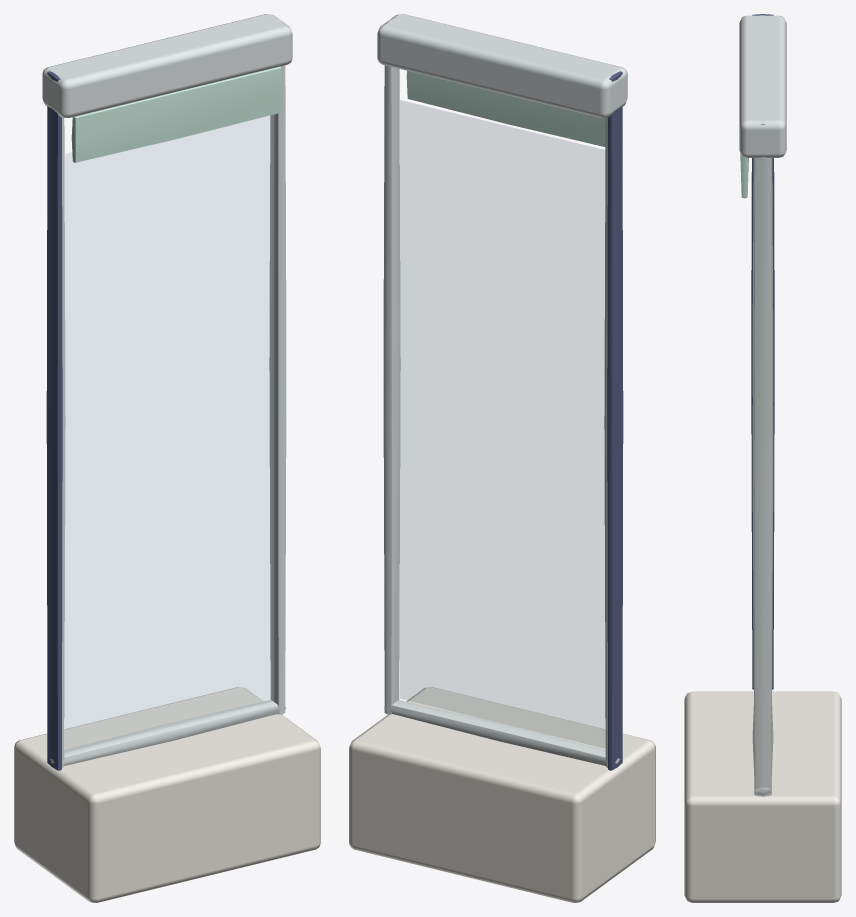
Rendered from window-wall.glb.
3 renders of one model, left to right at view 1: azimuth 30°, elevation 25°; view 2: azimuth 150°, elevation 25°; view 3: azimuth 270°, elevation 25°, orthographic. The views are drawn at different scales.
Visible parts, largest first — view 1: clear-pane, solid-sill, blind-box, mullion (×2), panel-gap, rolled-fabric, part; view 2: clear-pane, solid-sill, blind-box, mullion (×2), panel-gap, rolled-fabric, part; view 3: solid-sill, mullion (×2), blind-box, panel-gap.
Boxes of the visible parts, x1=… form: clear-pane: x1=65, y1=115, x2=273, y2=752; solid-sill: x1=14, y1=687, x2=320, y2=902; blind-box: x1=42, y1=14, x2=292, y2=117; mullion (×2): x1=55, y1=19, x2=286, y2=767; panel-gap: x1=46, y1=71, x2=62, y2=770; rolled-fabric: x1=71, y1=66, x2=281, y2=162; part: x1=50, y1=700, x2=285, y2=765; clear-pane: x1=400, y1=100, x2=605, y2=748; solid-sill: x1=349, y1=687, x2=655, y2=902; blind-box: x1=377, y1=14, x2=627, y2=117; mullion (×2): x1=383, y1=19, x2=614, y2=767; panel-gap: x1=607, y1=71, x2=623, y2=770; rolled-fabric: x1=406, y1=71, x2=605, y2=146; part: x1=384, y1=700, x2=619, y2=765; solid-sill: x1=684, y1=691, x2=841, y2=902; mullion (×2): x1=752, y1=15, x2=773, y2=796; blind-box: x1=739, y1=15, x2=786, y2=157; panel-gap: x1=751, y1=14, x2=774, y2=689.
Size of the model in its own units: 1 by 3.3 by 0.6.
1 material, 1 textured.
